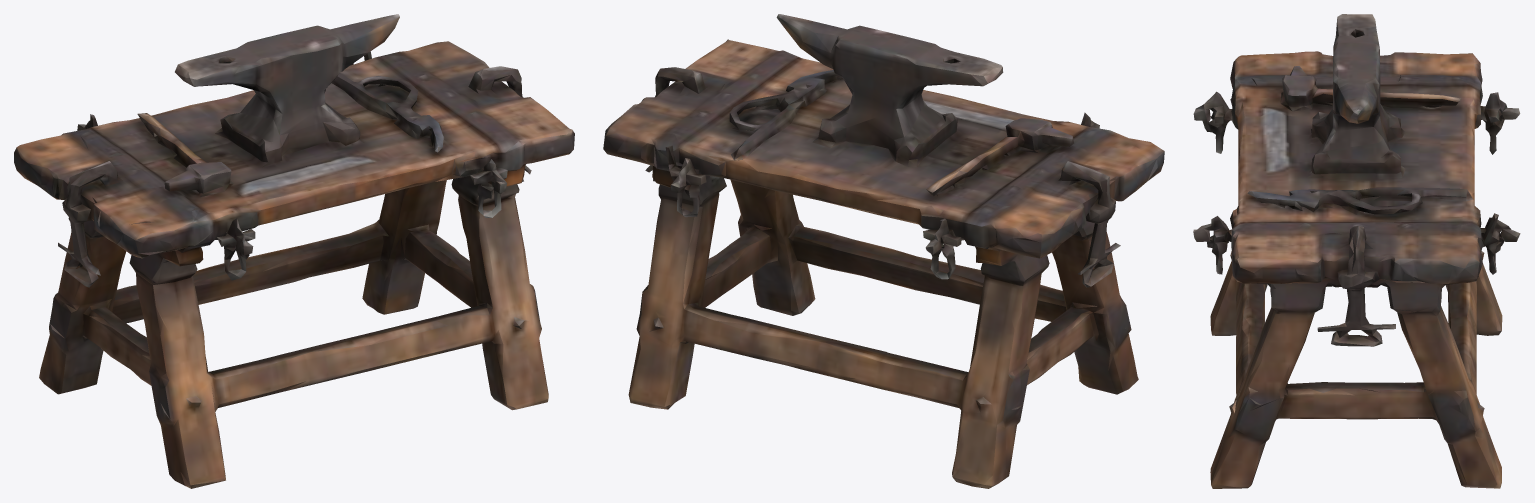
File: smithy_workbench.glb
The picture shows the model from 3 angles, left to right: view 1: azimuth 30°, elevation 25°; view 2: azimuth 150°, elevation 25°; view 3: azimuth 270°, elevation 25°; orthographic projection. The views are drawn at different scales.
Visible parts, largest first — view 1: turn; view 2: turn; view 3: turn.
Boxes of the visible parts, <box> form: turn: <box>14,14,574,488</box>; turn: <box>603,14,1164,488</box>; turn: <box>1193,14,1520,488</box>.
Size of the model in its own units: 1.76 by 1.3 by 1.12.
1 material, 1 textured.
